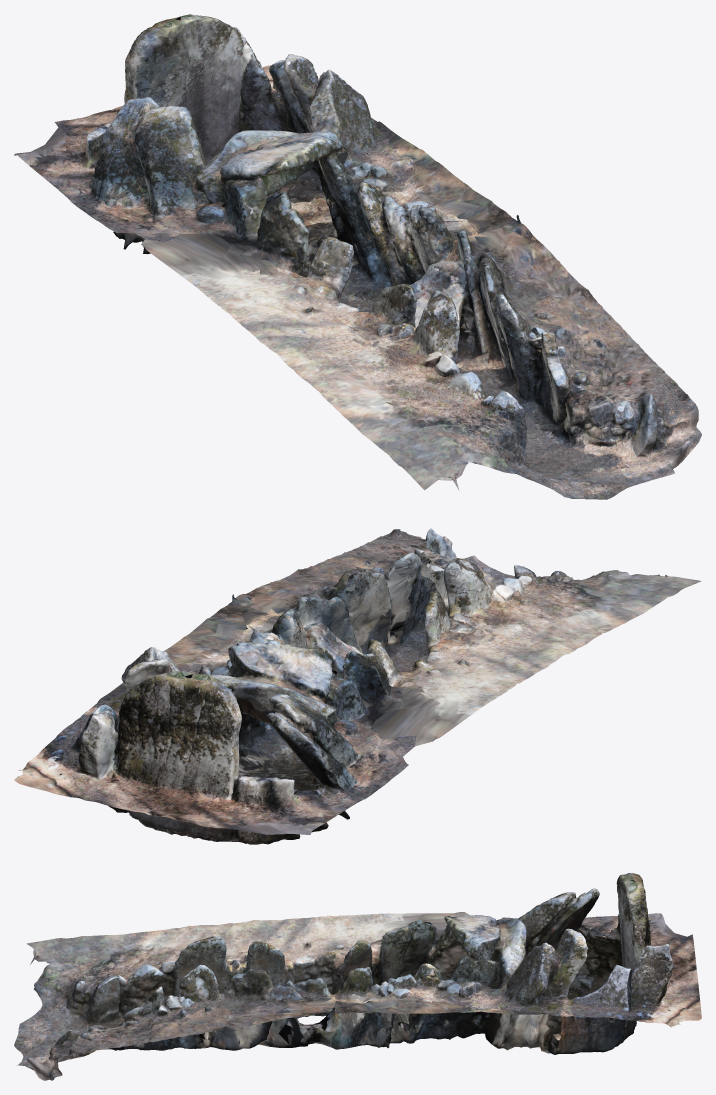
File: gltf.gltf
3 views of the same model, one above another, from view 1: azimuth 30°, elevation 25°; view 2: azimuth 150°, elevation 25°; view 3: azimuth 270°, elevation 25° (orthographic). The views are drawn at different scales.
Parts seen in each view (by area): view 1: lowpoly.001; view 2: lowpoly.001; view 3: lowpoly.001.
Part boxes in pixels (box(x1,y1,x2,y2)): lowpoly.001: box(14, 14, 701, 499); lowpoly.001: box(14, 528, 701, 844); lowpoly.001: box(14, 873, 701, 1080).
Size of the model in its own units: 1.97 by 1.26 by 5.08.
Materials: 5 (5 with a texture image).
